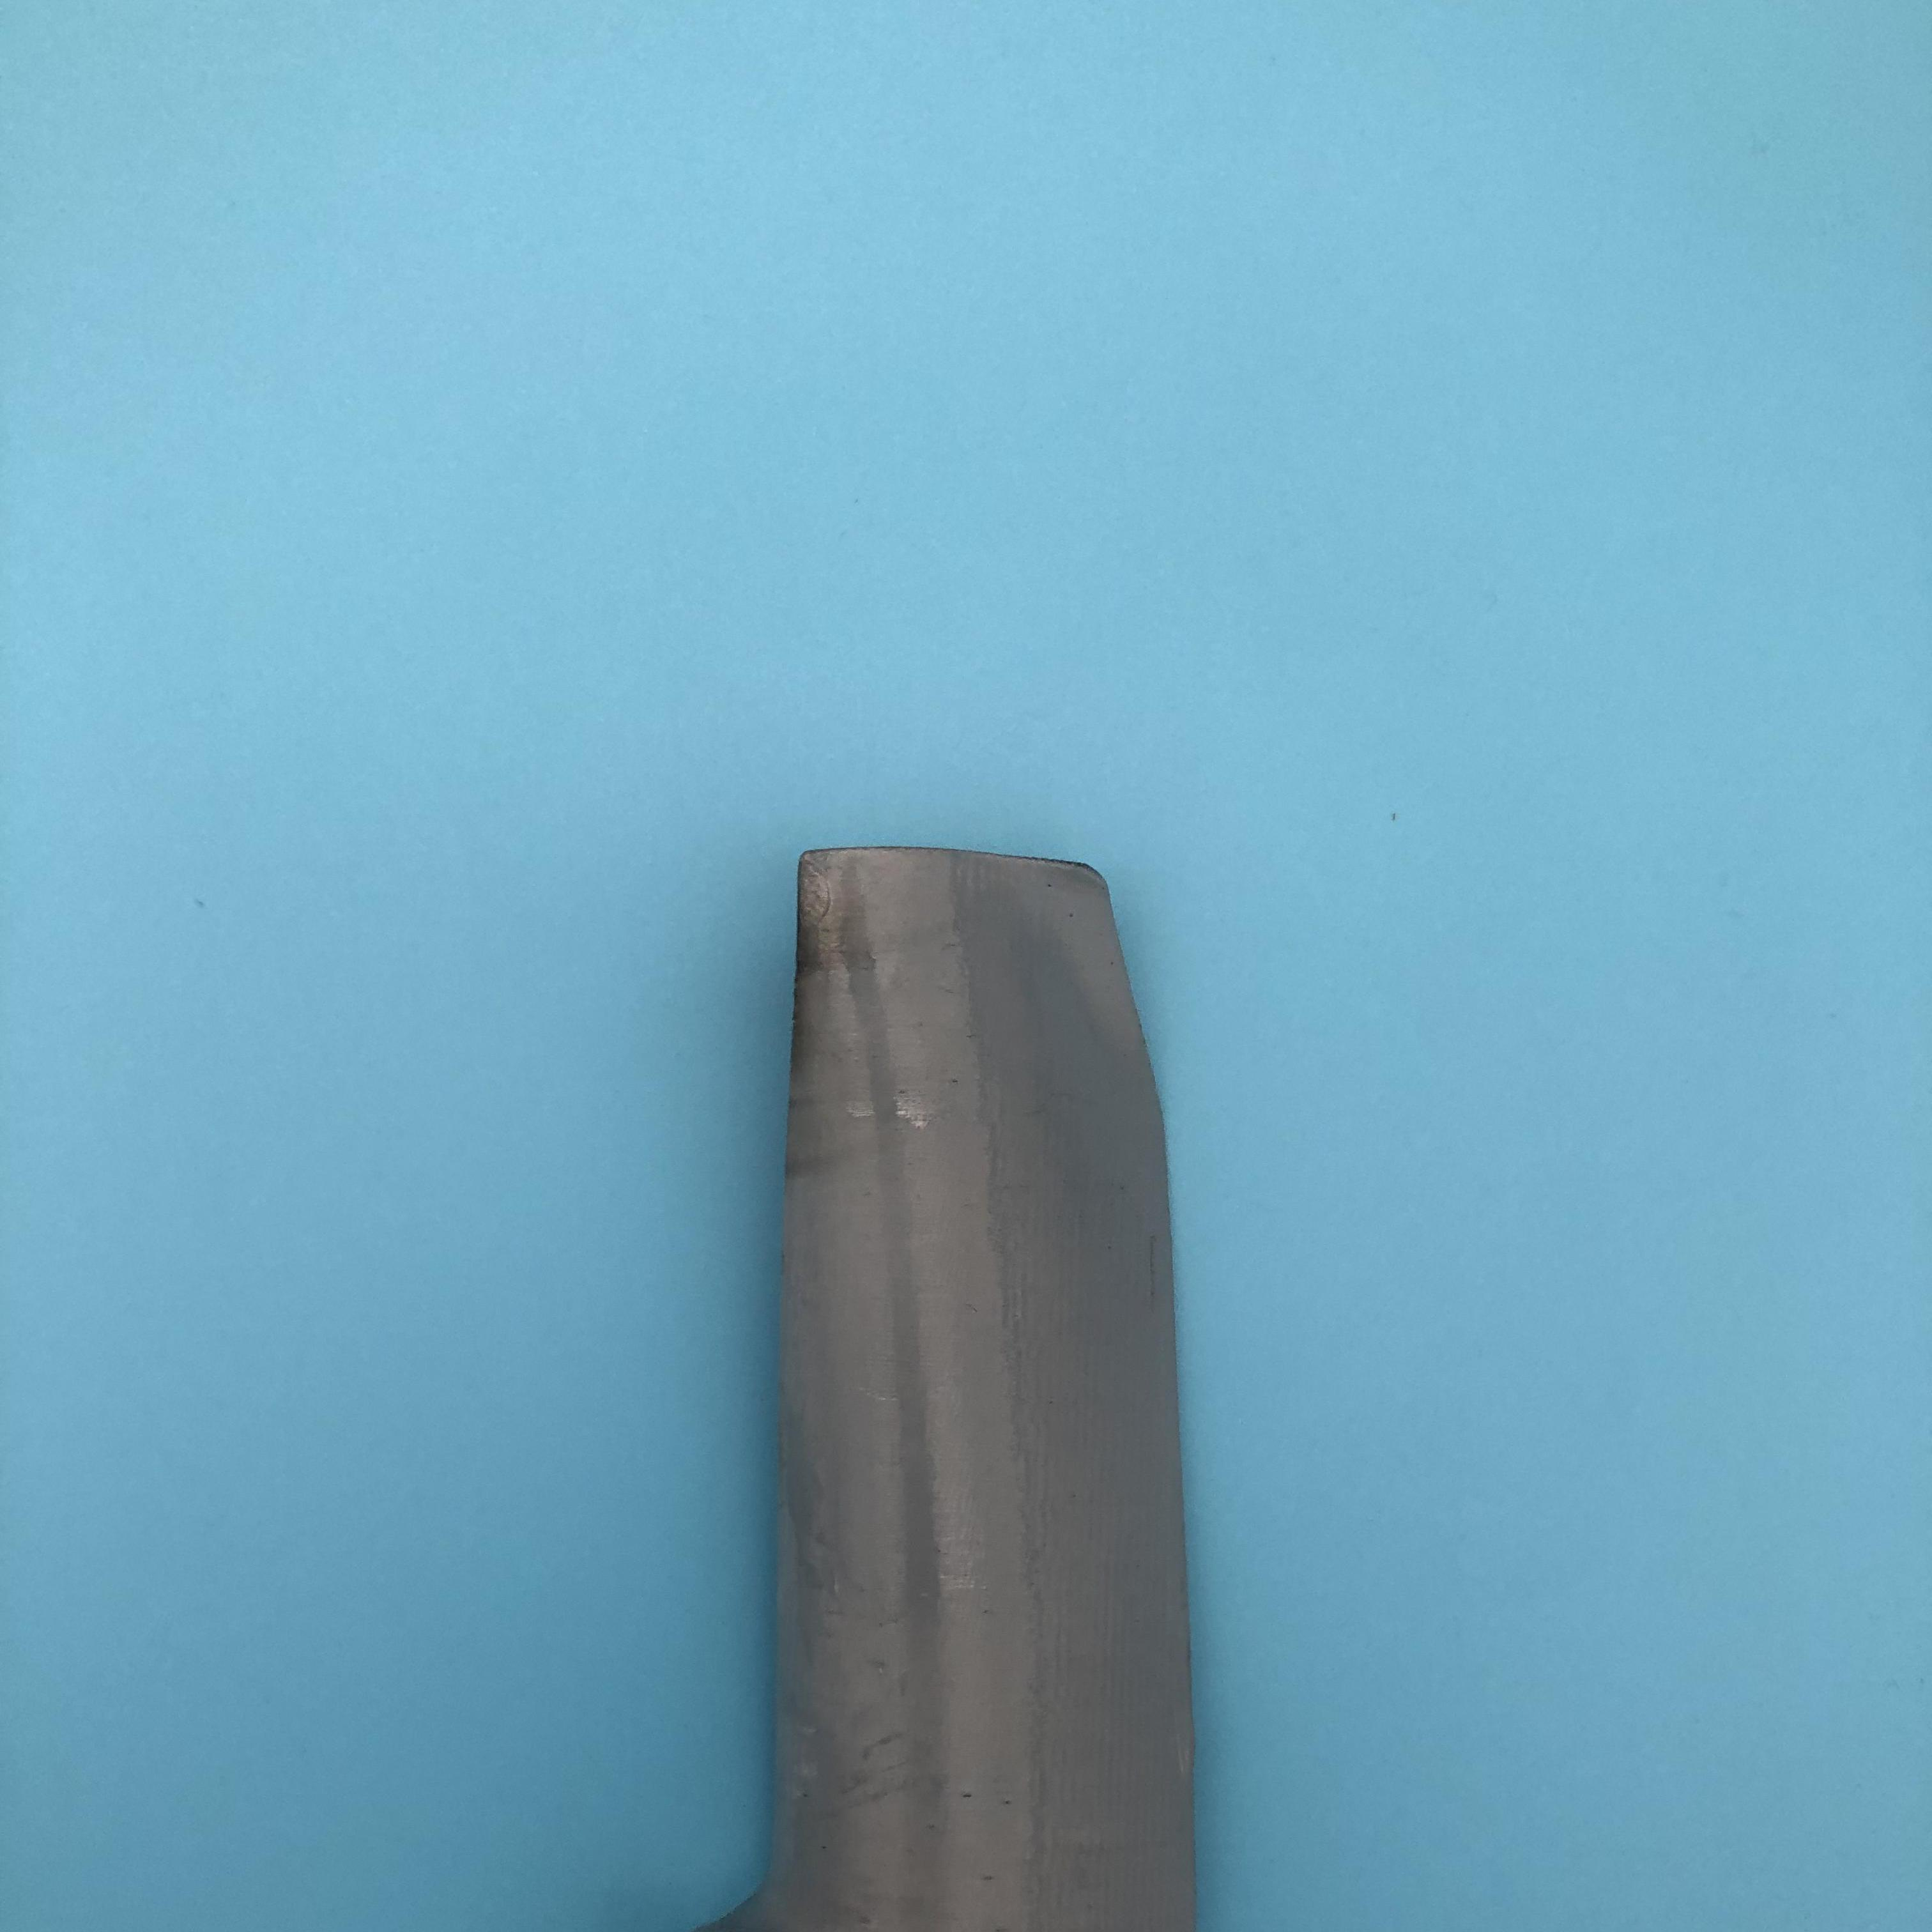ablation: (791, 865, 915, 1214)
